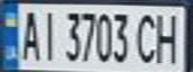0: (96, 8, 115, 63)
3: (60, 7, 81, 62), (112, 9, 133, 64)
7: (78, 8, 96, 63)
A: (15, 7, 42, 62)
C: (133, 9, 163, 64)
H: (151, 9, 187, 65)
I: (36, 7, 60, 62)
